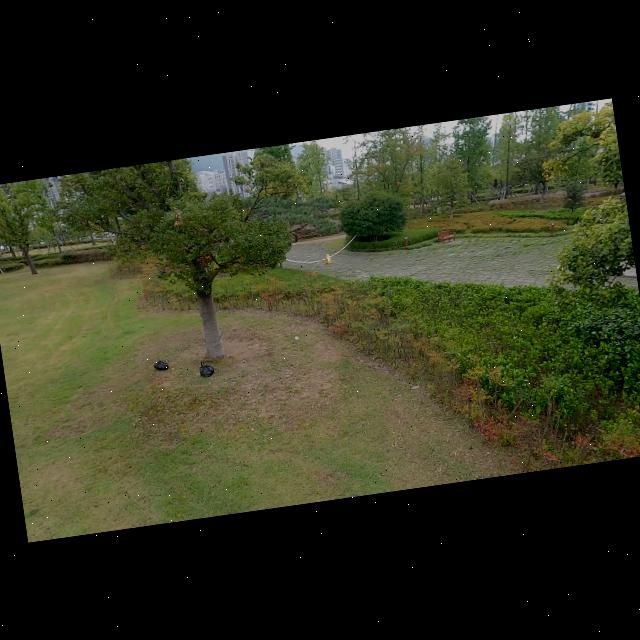trash: (197, 357, 217, 381), (150, 354, 169, 374)
